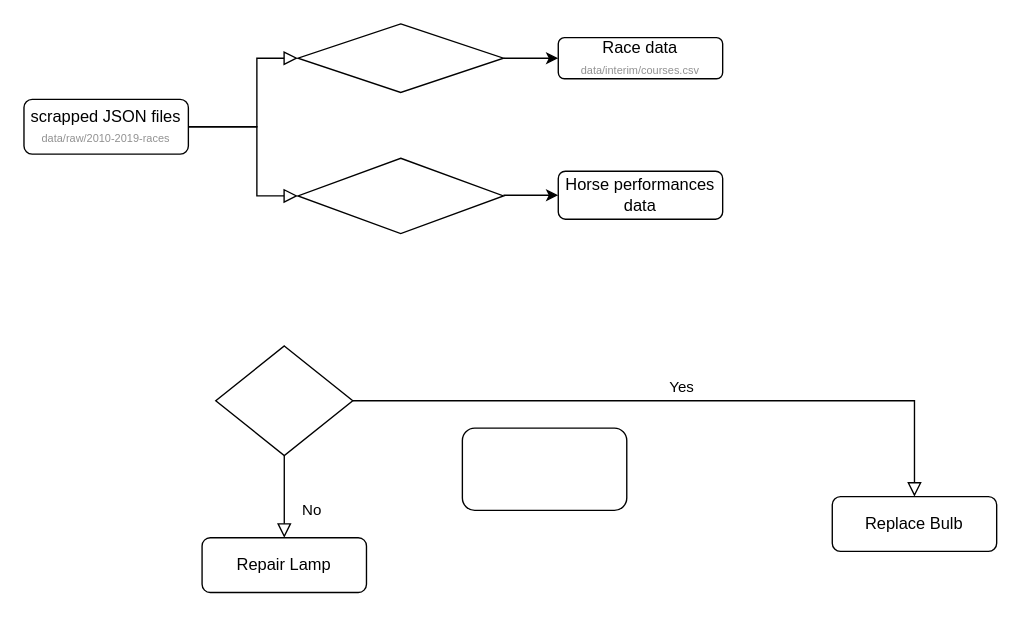
This 1021x617 diagram has some shape labels left out. The shapes that lost their labels are listed below. From the top down, each one's centre as x and y in pixels, then its label:
At (400,57): "build_race_db.py".
At (400,195): "build_horsesYear_db.py".
At (283,400): "Bulb burned out?".
